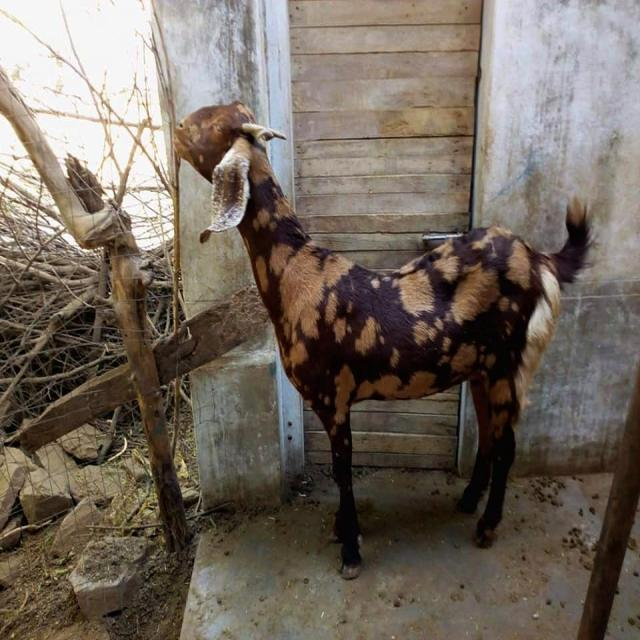Goat: (173, 98, 597, 580)
